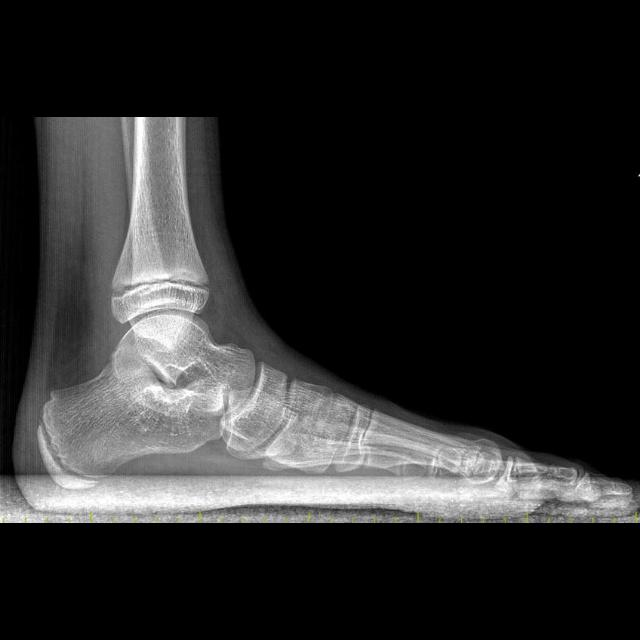a: (38, 312, 255, 488)
b: (222, 362, 288, 460)
c: (360, 411, 504, 480)
